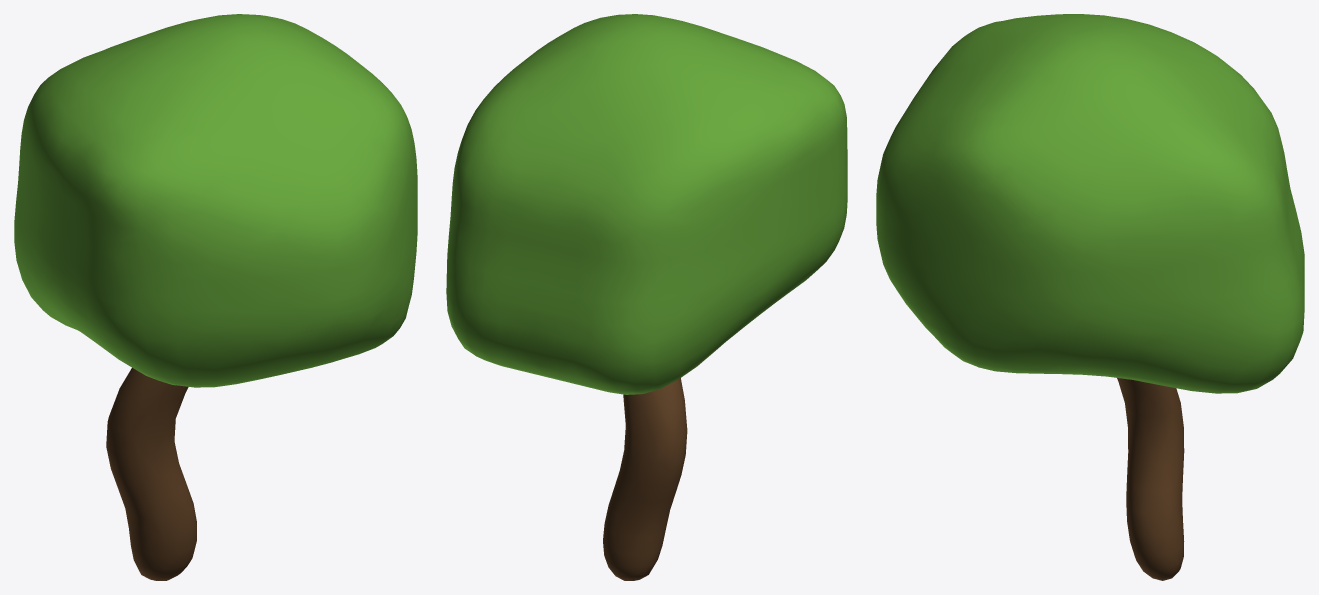
File: Tree 1.fbx
The picture shows the model from 3 angles, left to right: view 1: azimuth 30°, elevation 25°; view 2: azimuth 150°, elevation 25°; view 3: azimuth 270°, elevation 25°; orthographic projection. The views are drawn at different scales.
Parts seen in each view (by area): view 1: Cube_1, Cube; view 2: Cube_1, Cube; view 3: Cube_1, Cube.
Part boxes in pixels (x1,y1,x2,y2): Cube_1: (14,14,417,387); Cube: (106,368,196,580); Cube_1: (446,14,847,394); Cube: (603,378,687,580); Cube_1: (876,14,1304,393); Cube: (1117,378,1184,580).
Bounding box in the file's own units: 289 × 459 × 323.
